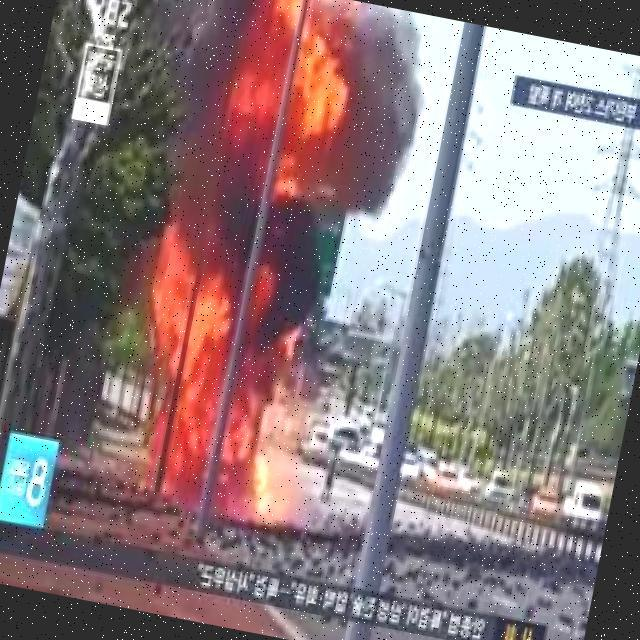Fire: (110, 259, 309, 525), (237, 19, 352, 166)
